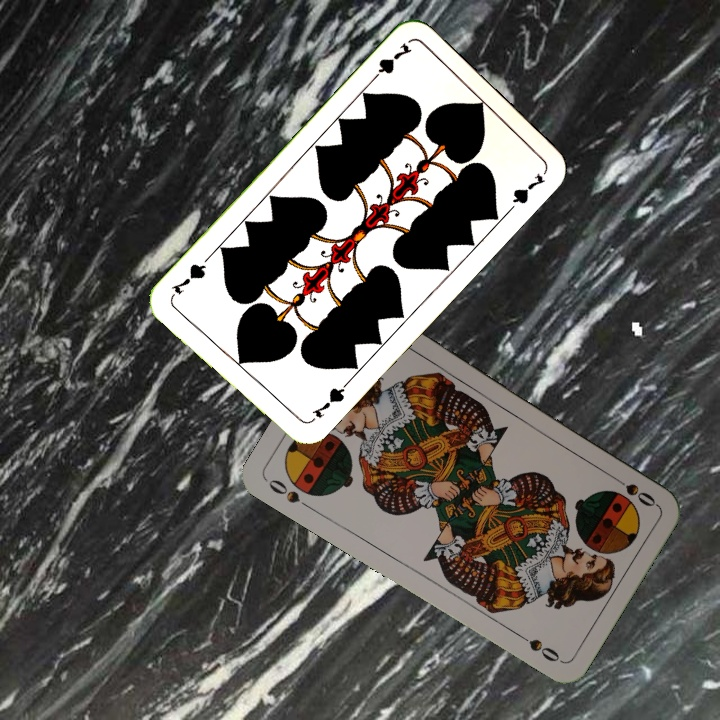G7: (365, 39, 415, 86), (308, 379, 350, 421)
SO: (606, 470, 659, 510), (264, 475, 316, 513)
